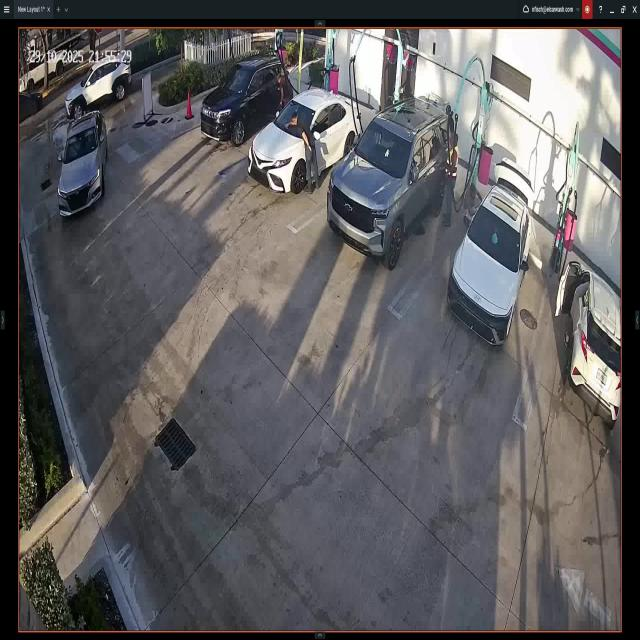Car: (328, 100, 457, 275), (450, 161, 534, 345), (250, 86, 360, 194), (562, 259, 620, 427), (201, 59, 293, 146), (57, 117, 106, 219), (65, 50, 132, 114)
